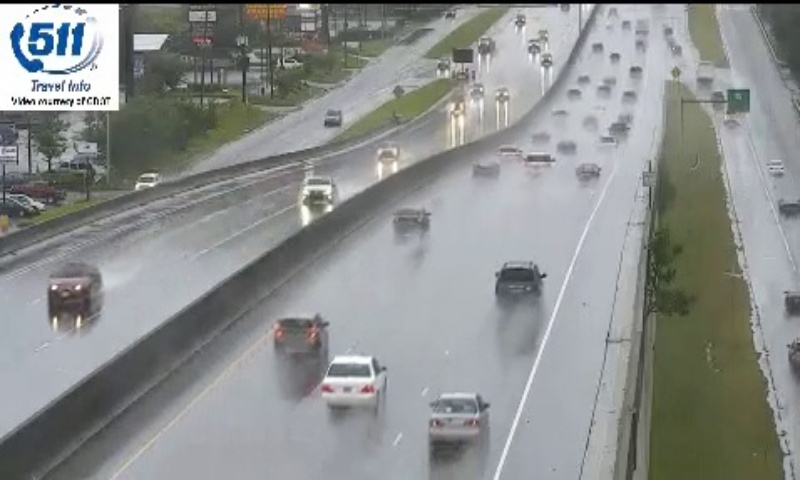car: (426, 390, 487, 443), (323, 356, 388, 405), (274, 314, 326, 358), (497, 262, 543, 300)
